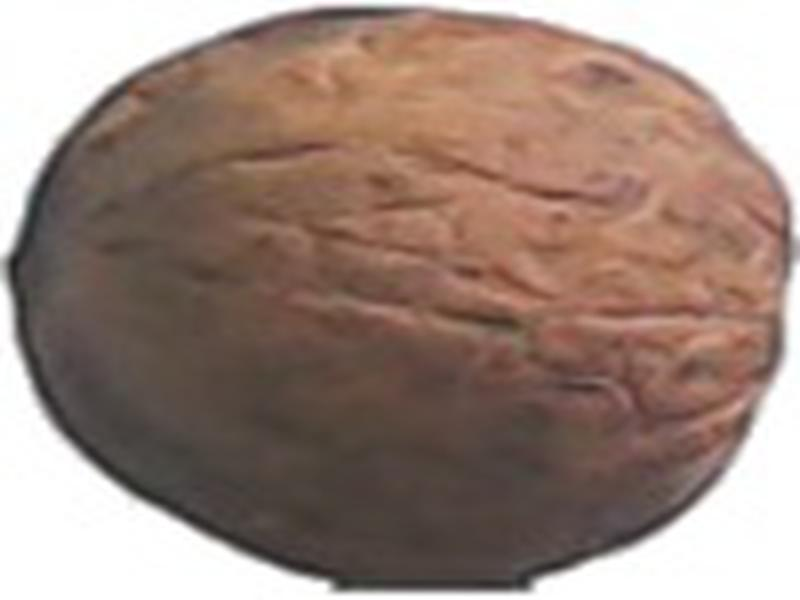walnut: (1, 1, 800, 592)
